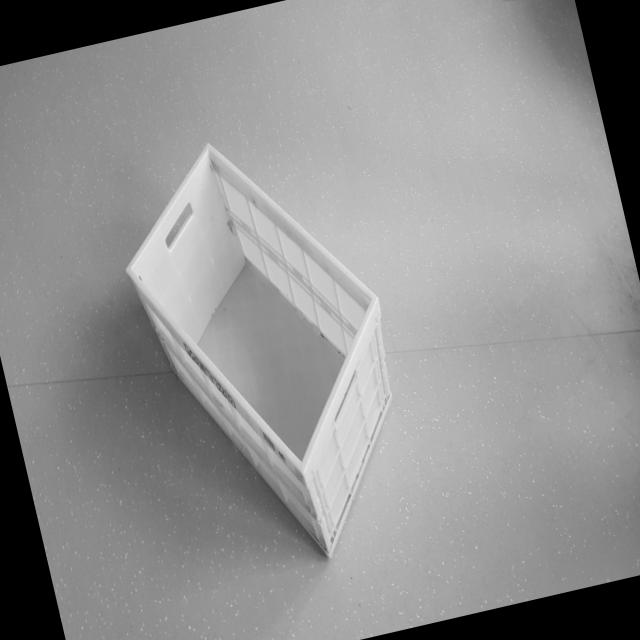box: (91, 101, 442, 606)
